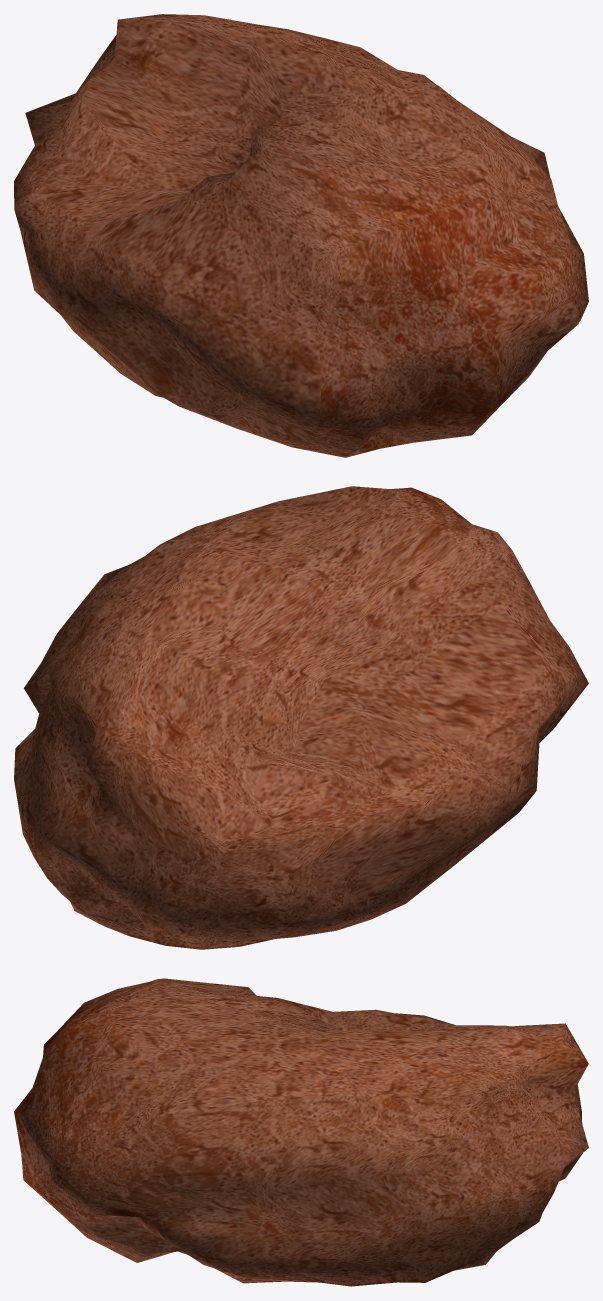
The model's file is Rock_04.fbx.
3 views of the same model, one above another, from view 1: azimuth 30°, elevation 25°; view 2: azimuth 150°, elevation 25°; view 3: azimuth 270°, elevation 25° (orthographic). The views are drawn at different scales.
Parts seen in each view (by area): view 1: Rock_04; view 2: Rock_04; view 3: Rock_04.
Boxes of the visible parts, x1,y1,x2,y2 form: Rock_04: (14, 14, 588, 457); Rock_04: (14, 486, 588, 949); Rock_04: (14, 978, 588, 1286).
Size of the model in its own units: 14.27 by 9.54 by 19.36.
